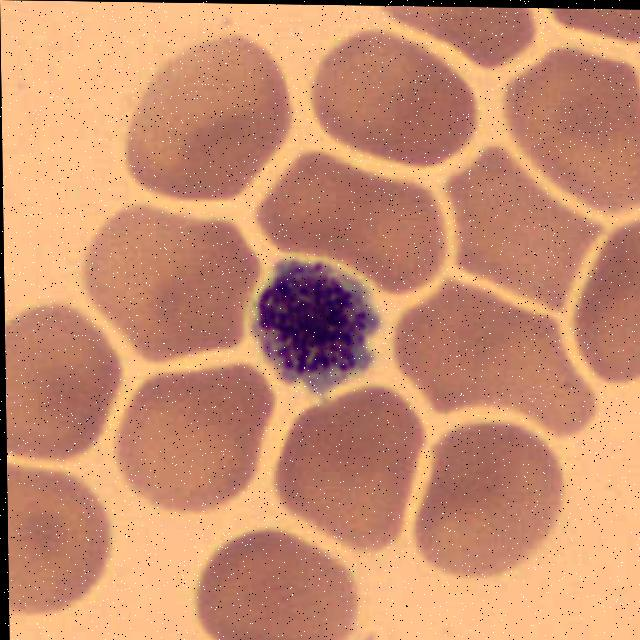platelets: (246, 261, 388, 389)
rbc: (385, 283, 599, 435), (83, 205, 269, 376), (119, 42, 301, 209), (257, 381, 433, 553), (109, 361, 288, 525), (403, 415, 569, 581), (440, 159, 611, 311), (508, 46, 640, 215), (5, 309, 133, 469), (183, 535, 365, 640), (313, 39, 471, 159), (7, 464, 114, 633), (562, 220, 640, 392), (374, 6, 532, 77), (546, 8, 640, 52)
